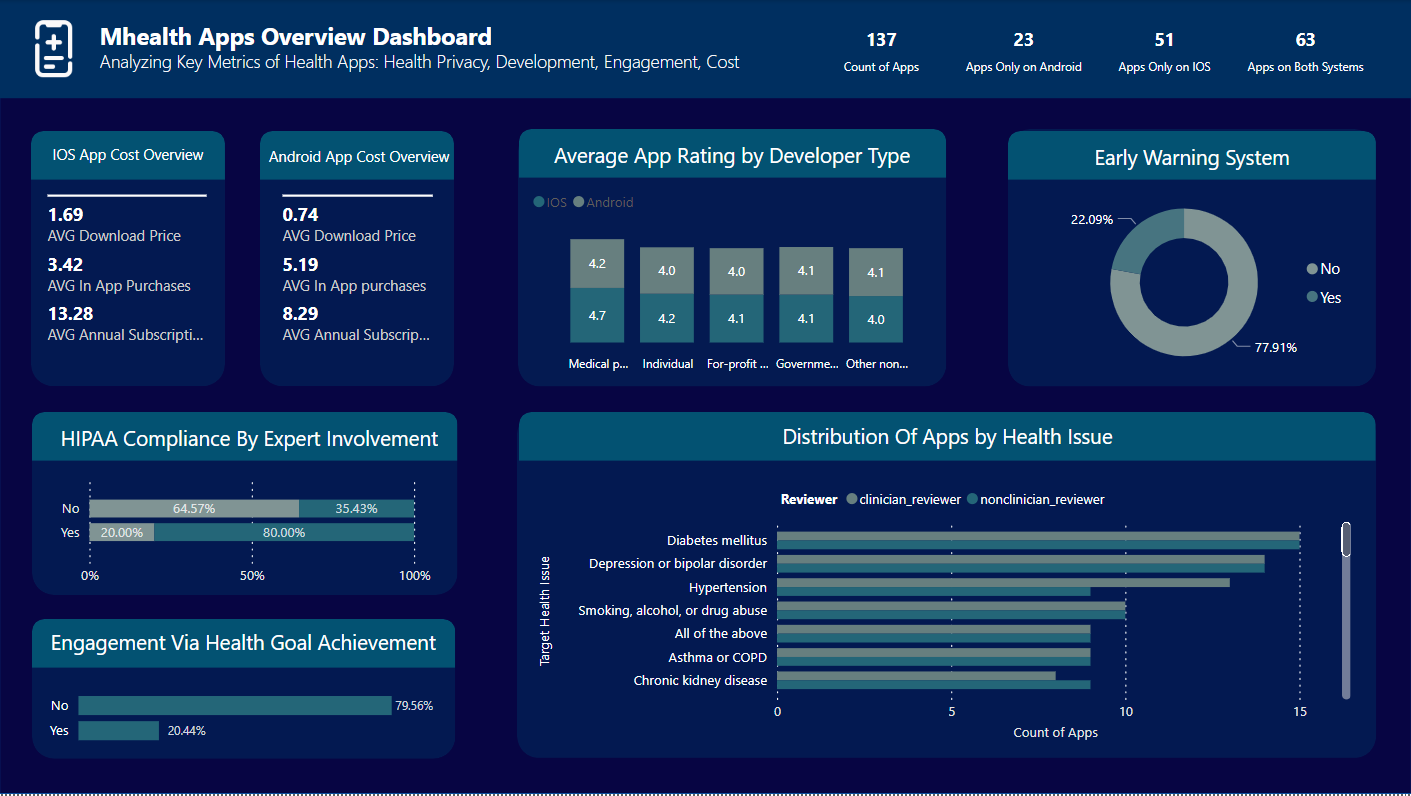

The dashboard page shown, as its layout file describes it:
{"tool":"powerbi","page":{"name":"Page 2","canvas":[1280,720],"ordinal":1},"visuals":[{"type":"shape","box":[0,0,1280,720],"z":0},{"type":"shape","box":[30,561.1,383.3,125.6],"z":0,"group":"g1"},{"type":"shape","box":[0,0,1280,88.9],"z":1000},{"type":"shape","box":[30,560,383.3,44.4],"z":1000,"group":"g1"},{"type":"textbox","box":[85.6,12.2,528.9,46.7],"z":2000},{"type":"image","box":[13.3,7.8,72.2,72.2],"z":3000},{"type":"shape","box":[470,116.7,387.8,233.3],"z":4000},{"type":"shape","box":[913.3,116.7,333.3,233.3],"z":5000},{"type":"shape","box":[30,373.3,385.4,165.6],"z":5000,"group":"g2"},{"type":"shape","box":[468.9,373.3,777.8,313.3],"z":6000},{"type":"shape","box":[28.9,118.9,175.6,231.1],"z":7000,"group":"g4"},{"type":"donutChart","title":"FDA Compliant Apps","fields":{"Category":["mhealth_app_review_data.Doestheappappropriatelywarnuserscaregiversorclinicianswhendangerousinformationisentered"],"Y":["Divide(Count(mhealth_app_review_data.AppID), ScopedEval(Count(mhealth_app_review_data.AppID), []))"]},"box":[957.8,151.1,271.1,208.9],"z":7000},{"type":"shape","box":[913.3,118.9,333.3,44.4],"z":8000},{"type":"textbox","box":[913.3,124.4,333.3,36.7],"z":9000},{"type":"shape","box":[471.1,116.7,386.7,44.4],"z":10000},{"type":"shape","box":[471.1,373.3,775.6,44.4],"z":11000},{"type":"textbox","box":[471.1,376.7,775.6,36.7],"z":12000},{"type":"card","fields":{"Values":["CountNonNull(mhealth_app_review_data.AppID)"]},"box":[863.3,12.2,128,64.4],"z":13000},{"type":"shape","box":[30,373.3,385.4,44.4],"z":13000,"group":"g2"},{"type":"card","fields":{"Values":["CountNonNull(mhealth_app_review_data.AppID)"]},"box":[734.4,12.2,128.9,64.4],"z":14000},{"type":"card","fields":{"Values":["CountNonNull(mhealth_app_review_data.AppID)"]},"box":[991.1,12.2,127.8,64.4],"z":15000},{"type":"shape","box":[28.9,118.9,175.6,44.4],"z":15000,"group":"g4"},{"type":"card","fields":{"Values":["CountNonNull(mhealth_app_review_data.AppID)"]},"box":[1118.9,12.2,127.8,64.4],"z":16000},{"type":"shape","box":[236.7,118.9,175.6,231.1],"z":16000,"group":"g3"},{"type":"shape","box":[236.7,118.9,175.6,44.4],"z":17000,"group":"g3"},{"type":"clusteredBarChart","fields":{"Category":["mhealth_app_review_data.Whichpopulationsistheapptargeting"],"Y":["CountNonNull(mhealth_app_review_data.AppID)"],"Series":["mhealth_app_review_data.Reviewer"]},"box":[484.4,432.2,744.4,243.3],"z":17000},{"type":"textbox","box":[27,125.7,178.9,35.6],"z":18000,"group":"g4"},{"type":"columnChart","title":"AVG Rating by Company Category","fields":{"Category":["mhealth_app_review_data.Howwouldyoubestcategorizetheappdeveloper"],"Y":["Avg(mhealth_app_review_data.iOSAvgRating)","Avg(mhealth_app_review_data.AndroidAvgRating)"]},"box":[477.8,163.3,372.2,181.1],"z":18000},{"type":"textbox","box":[471.1,122.2,385.6,36.7],"z":19000},{"type":"textbox","box":[85.6,40,606.7,36.7],"z":20000},{"type":"multiRowCard","fields":{"Values":["Avg(mhealth_app_review_data.iOSONLYPricetodownloadtheappindollars)","Avg(mhealth_app_review_data.iOSONLYPricetopurchaseALLinapppurchasesindollars)","Avg(mhealth_app_review_data.iOSONLYAnnualpricetopurchaseasubscriptionindollars)"]},"box":[38.9,171.1,154.4,156.7],"z":20000,"group":"g4"},{"type":"textbox","box":[238.2,127.9,175.6,33.3],"z":21000,"group":"g3"},{"type":"group","id":"g1","title":"Group 1","box":[30,560,383.3,126.7],"z":21000},{"type":"multiRowCard","fields":{"Values":["Avg(mhealth_app_review_data.ANDROIDONLYPricetodownloadtheappindollars)","Avg(mhealth_app_review_data.ANDROIDONLYPricetopurchaseALLinapppurchasesindollars)","Avg(mhealth_app_review_data.ANDROIDONLYAnnualpricetopurchaseasubscriptionindollars)"]},"box":[252.3,171.1,145.6,156.7],"z":22000,"group":"g3"},{"type":"group","id":"g2","title":"Group 2","box":[30,373.3,393.3,165.6],"z":22000},{"type":"group","id":"g3","title":"Group 3","box":[236.7,118.9,177,231.1],"z":23000},{"type":"group","id":"g4","title":"Group 4","box":[27,118.9,178.9,231.1],"z":24000},{"type":"clusteredBarChart","fields":{"Category":["mhealth_app_review_data.Doestheapprewardtheuserforengagingwiththeapporachievinghealthgoals"],"Y":["Divide(CountNonNull(mhealth_app_review_data.AppID), ScopedEval(CountNonNull(mhealth_app_review_data.AppID), []))"]},"box":[38.9,596.7,358.9,100],"z":25000},{"type":"textbox","box":[30,563.3,382.2,41.1],"z":25001},{"type":"hundredPercentStackedBarChart","fields":{"Category":["mhealth_app_review_data.DoestheappclaimtomeetthestandardofHIPAAcompliance"],"Y":["CountNonNull(mhealth_app_review_data.AppID)"],"Series":["mhealth_app_review_data.Wasanappropriateclinicalexpertinvolvedinappdevelopmentorqualitycontrol"]},"box":[49.3,420,346.9,118.9],"z":30000,"group":"g2"},{"type":"textbox","box":[30,378.9,393.3,36.7],"z":31000,"group":"g2"}]}

Visuals, with their boxes in screenshot pixels (x1, y1, x2, y2), scaled from the page's 1280x720 canvas onto the 1411x796 screenshot:
shape: 0, 0, 1410, 795
shape: 33, 620, 456, 759
shape: 0, 0, 1410, 98
shape: 33, 619, 456, 668
textbox: 94, 13, 677, 65
image: 15, 9, 94, 88
shape: 518, 129, 946, 387
shape: 1007, 129, 1374, 387
shape: 33, 413, 458, 596
shape: 517, 413, 1374, 759
shape: 32, 131, 225, 387
"FDA Compliant Apps" donutChart: 1056, 167, 1355, 398
shape: 1007, 131, 1374, 181
textbox: 1007, 138, 1374, 178
shape: 519, 129, 946, 178
shape: 519, 413, 1374, 462
textbox: 519, 416, 1374, 457
card - CountNonNull(mhealth_app_review_data.AppID): 952, 13, 1093, 85
shape: 33, 413, 458, 462
card - CountNonNull(mhealth_app_review_data.AppID): 810, 13, 952, 85
card - CountNonNull(mhealth_app_review_data.AppID): 1093, 13, 1233, 85
shape: 32, 131, 225, 181
card - CountNonNull(mhealth_app_review_data.AppID): 1233, 13, 1374, 85
shape: 261, 131, 454, 387
shape: 261, 131, 454, 181
clusteredBarChart - mhealth_app_review_data.Whichpopulationsistheapptargeting x CountNonNull(mhealth_app_review_data.AppID): 534, 478, 1355, 747
textbox: 30, 139, 227, 178
"AVG Rating by Company Category" columnChart: 527, 181, 937, 381
textbox: 519, 135, 944, 176
textbox: 94, 44, 763, 85
multiRowCard - Avg(mhealth_app_review_data.iOSONLYPricetodownloadtheappindollars) x Avg(mhealth_app_review_data.iOSONLYPricetopurchaseALLinapppurchasesindollars): 43, 189, 213, 362
textbox: 263, 141, 456, 178
"Group 1" group: 33, 619, 456, 759
multiRowCard - Avg(mhealth_app_review_data.ANDROIDONLYPricetodownloadtheappindollars) x Avg(mhealth_app_review_data.ANDROIDONLYPricetopurchaseALLinapppurchasesindollars): 278, 189, 439, 362
"Group 2" group: 33, 413, 467, 596
"Group 3" group: 261, 131, 456, 387
"Group 4" group: 30, 131, 227, 387
clusteredBarChart - mhealth_app_review_data.Doestheapprewardtheuserforengagingwiththeapporachievinghealthgoals x Divide(CountNonNull(mhealth_app_review_data.AppID), ScopedEval(CountNonNull(mhealth_app_review_data.AppID), [])): 43, 660, 439, 770
textbox: 33, 623, 454, 668
hundredPercentStackedBarChart - mhealth_app_review_data.DoestheappclaimtomeetthestandardofHIPAAcompliance x CountNonNull(mhealth_app_review_data.AppID): 54, 464, 437, 596
textbox: 33, 419, 467, 459
